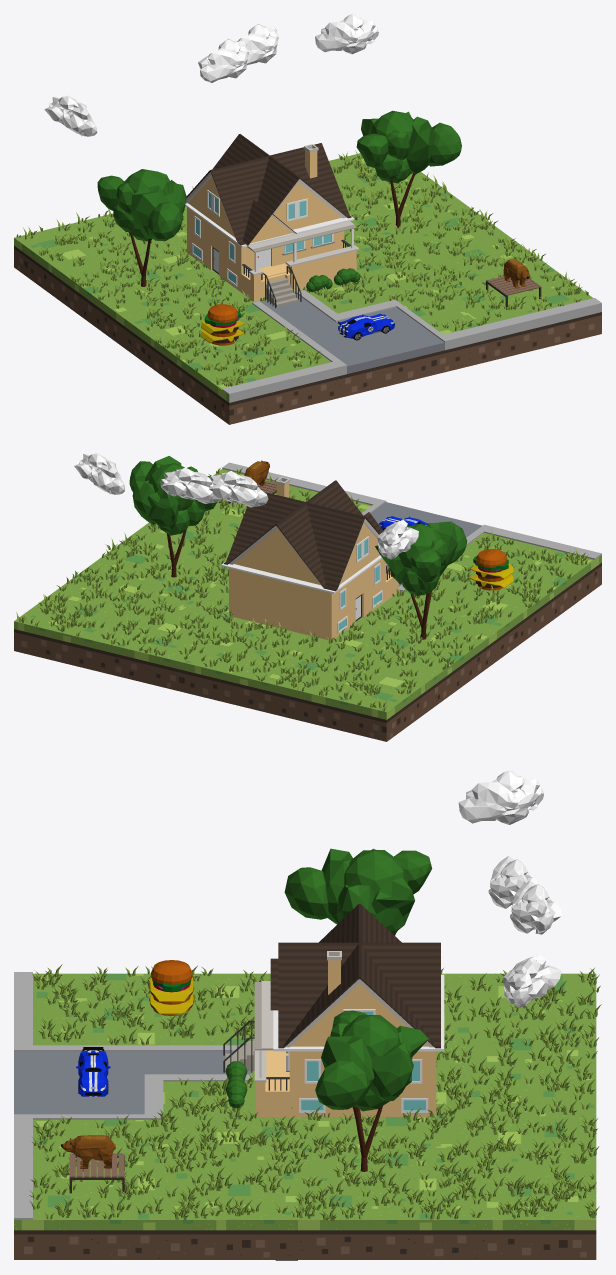
3 renders of one model, top to bottom at view 1: azimuth 30°, elevation 25°; view 2: azimuth 150°, elevation 25°; view 3: azimuth 270°, elevation 25°, orthographic. The views are drawn at different scales.
Visible parts, largest first — view 1: Cube.006, Cube.235, Circle.012_Grass_0.192, Cube.007, tree, tree.001, OBJRANDOM_HAMBURGER, VEHICLES_RACING_CAR, Cube.009, ANIMAL_OSO; view 2: Cube.006, Cube.235, Circle.012_Grass_0.192, Cube.007, tree.001, tree, OBJRANDOM_HAMBURGER, ANIMAL_OSO; view 3: Cube.006, Circle.012_Grass_0.192, Cube.235, tree, Cube.007, tree.001, OBJRANDOM_HAMBURGER, VEHICLES_RACING_CAR, Cube.009, ANIMAL_OSO.
Part boxes in pixels (<box>): Cube.006: <box>14,153,601,424</box>; Cube.235: <box>185,134,359,308</box>; Circle.012_Grass_0.192: <box>16,150,588,386</box>; Cube.007: <box>44,14,378,136</box>; tree: <box>356,110,461,228</box>; tree.001: <box>97,169,186,286</box>; OBJRANDOM_HAMBURGER: <box>201,304,244,345</box>; VEHICLES_RACING_CAR: <box>338,313,394,340</box>; Cube.009: <box>486,276,541,306</box>; ANIMAL_OSO: <box>503,259,530,288</box>; Cube.006: <box>14,462,601,741</box>; Cube.235: <box>221,477,398,640</box>; Circle.012_Grass_0.192: <box>16,468,588,711</box>; Cube.007: <box>74,453,418,559</box>; tree.001: <box>375,521,467,639</box>; tree: <box>129,456,216,577</box>; OBJRANDOM_HAMBURGER: <box>469,549,513,590</box>; ANIMAL_OSO: <box>244,460,269,485</box>; Cube.006: <box>14,972,596,1259</box>; Circle.012_Grass_0.192: <box>29,964,601,1221</box>; Cube.235: <box>223,904,444,1116</box>; tree: <box>315,1010,428,1171</box>; Cube.007: <box>458,770,561,1007</box>; tree.001: <box>284,848,432,935</box>; OBJRANDOM_HAMBURGER: <box>149,960,194,1015</box>; VEHICLES_RACING_CAR: <box>76,1047,110,1096</box>; Cube.009: <box>69,1153,124,1193</box>; ANIMAL_OSO: <box>61,1135,115,1168</box>.
Size of the model in its own units: 4071 by 2184 by 4040.
38 materials, 3 textured.
